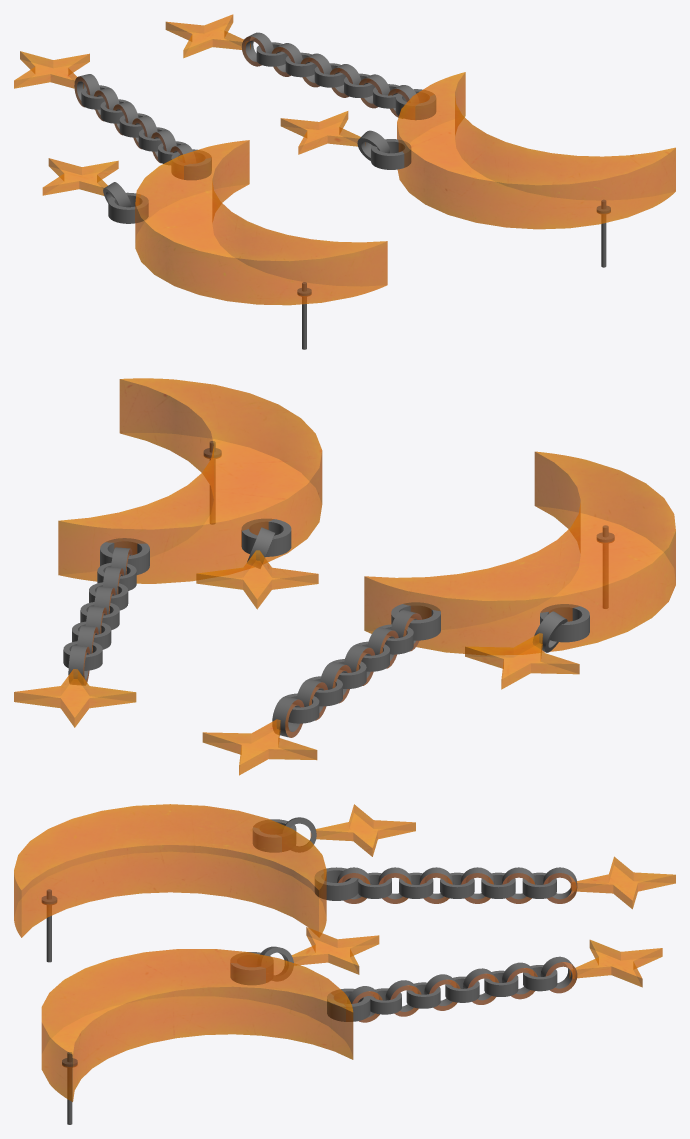
3 renders of one model, top to bottom at view 1: azimuth 30°, elevation 25°; view 2: azimuth 150°, elevation 25°; view 3: azimuth 270°, elevation 25°, orthographic. The views are drawn at different scales.
Parts seen in each view (by area): view 1: Cylinder002; view 2: Cylinder002; view 3: Cylinder002.
Part boxes in pixels (box(x1,y1,x2,y2)): Cylinder002: box(14, 14, 675, 349); Cylinder002: box(14, 378, 675, 775); Cylinder002: box(14, 804, 675, 1124).
Size of the model in its own units: 2.39 by 0.4533 by 2.52.
1 material, 1 textured.
